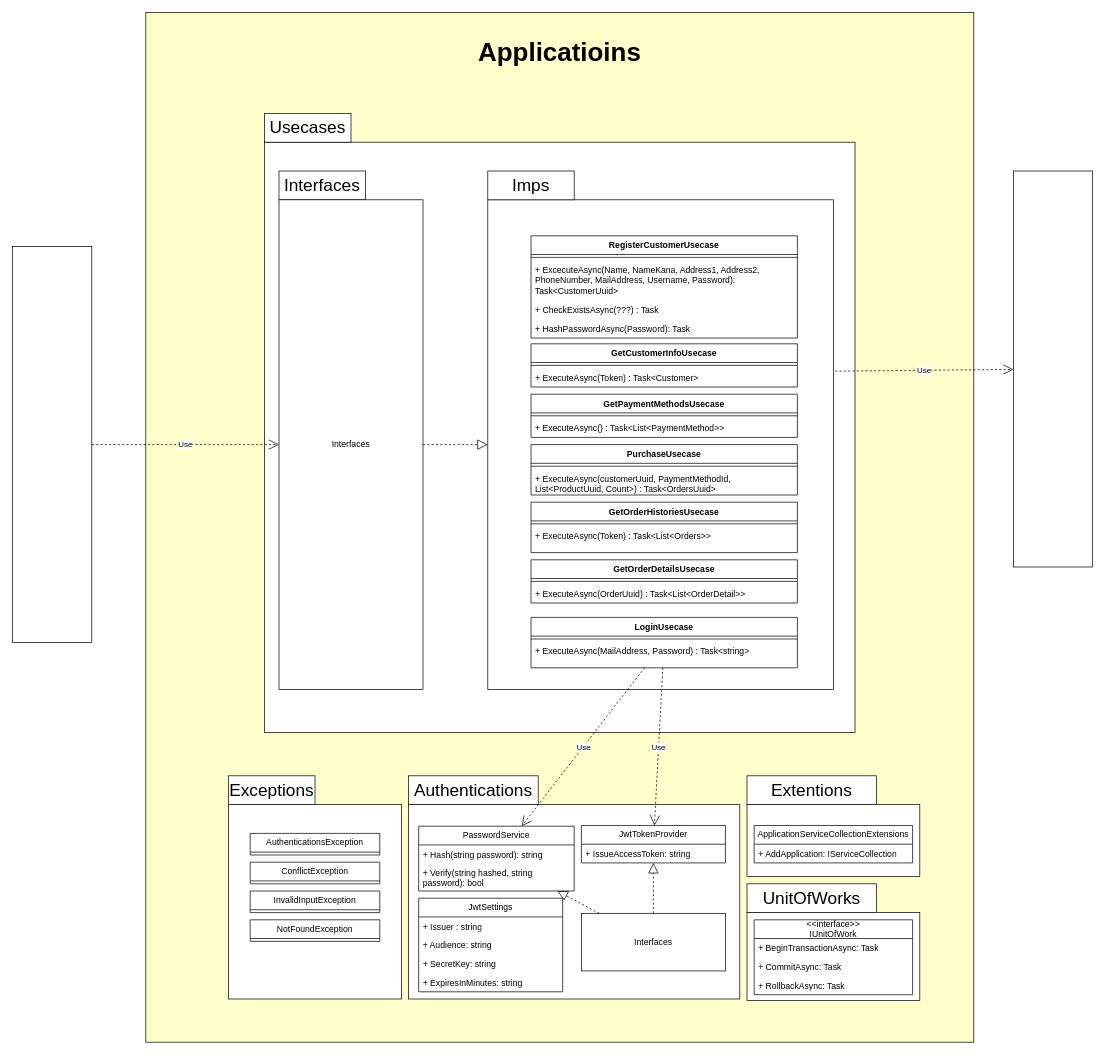
This 1105x1055 diagram has some shape labels left out. Each missing label, with the centre of its shape:
Controllers: [52,444]
IRepository: [1053,368]
